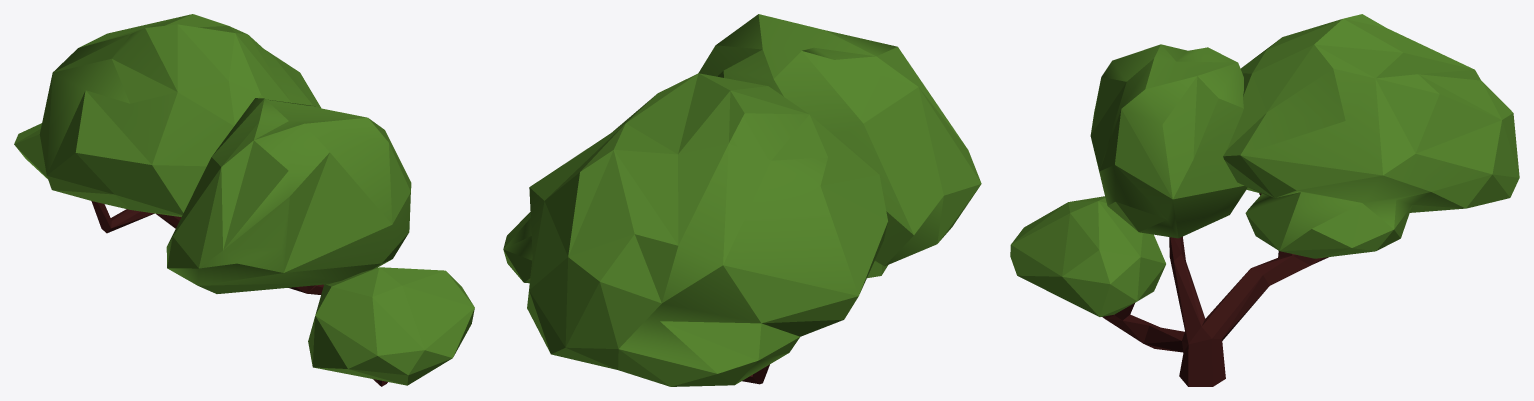
Rendered from shrub__3.fbx.
3 views of the same model, side by side, from view 1: azimuth 30°, elevation 25°; view 2: azimuth 150°, elevation 25°; view 3: azimuth 270°, elevation 25° (orthographic). The views are drawn at different scales.
Parts seen in each view (by area): view 1: tree1_Icosphere.019; view 2: tree1_Icosphere.019; view 3: tree1_Icosphere.019.
Boxes of the visible parts, x1,y1,x2,y2 form: tree1_Icosphere.019: [14, 14, 474, 386]; tree1_Icosphere.019: [503, 14, 981, 386]; tree1_Icosphere.019: [1010, 14, 1519, 386].
Size of the model in its own units: 1023 by 1023 by 1636.
